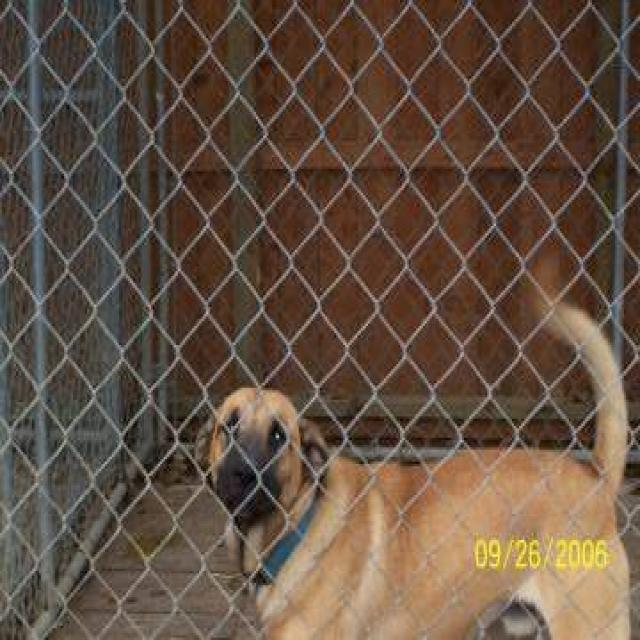dog: (197, 292, 635, 638)
